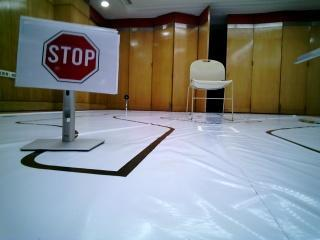stop: (24, 24, 115, 96)
